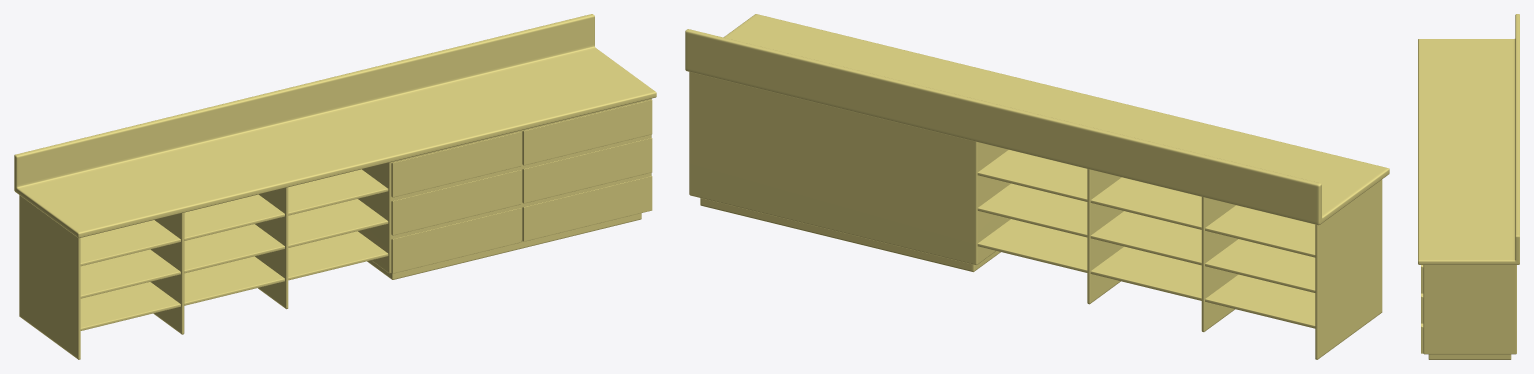
Rendered from Table02.fbx.
3 views of the same model, side by side, from view 1: azimuth 30°, elevation 25°; view 2: azimuth 150°, elevation 25°; view 3: azimuth 270°, elevation 25° (orthographic). The views are drawn at different scales.
Parts seen in each view (by area): view 1: SM_Table02; view 2: SM_Table02; view 3: SM_Table02.
Part boxes in pixels (x1,y1,x2,y2): SM_Table02: (14,14,656,359); SM_Table02: (685,14,1389,359); SM_Table02: (1418,14,1519,359).
Bounding box in the file's own units: 4.5 × 1.2 × 0.8716.
